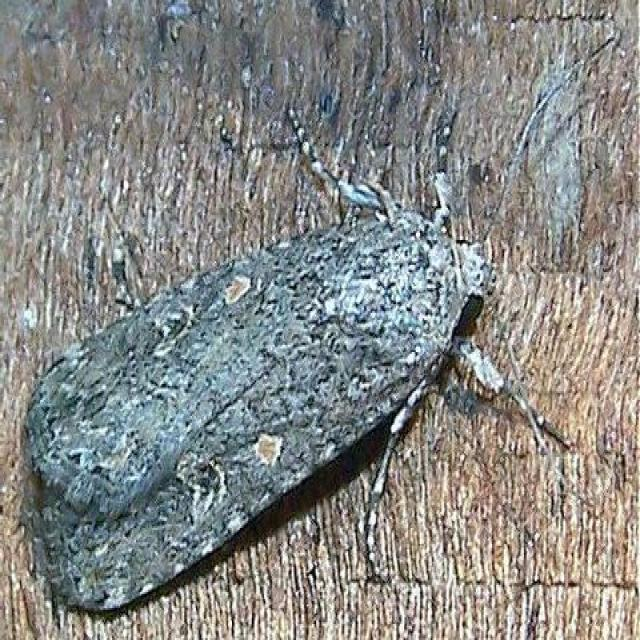BeetArmyWorm-Adult-: (19, 199, 510, 614)
